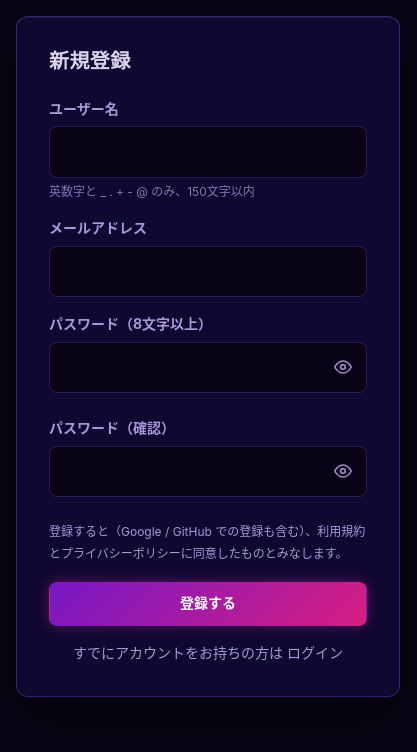
it: RegisterPage › 登録失敗時にエラーメッセージを表示
In the field labelled "ユーザー名": (208, 152) [49,126,367,178], type "dup"
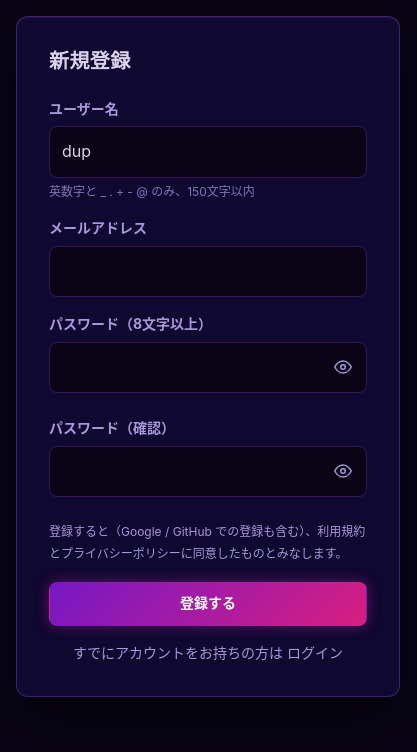
In the field labelled "メールアドレス": (208, 271) [49,246,367,297], type "dup@x.com"
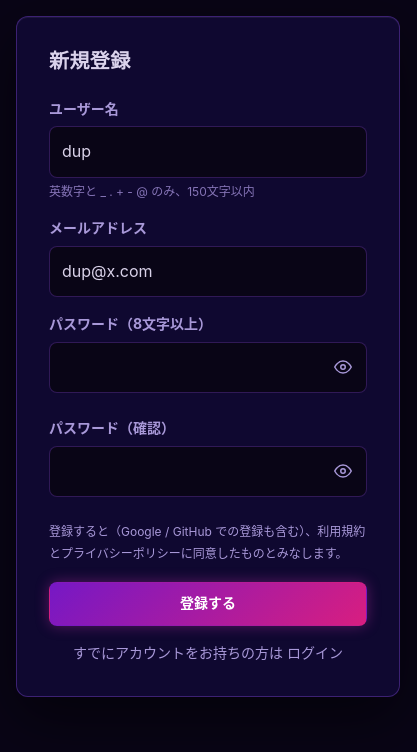
In the password field labelled "パスワード（8文字以上）": (208, 367) [49,342,367,393], type "password123"
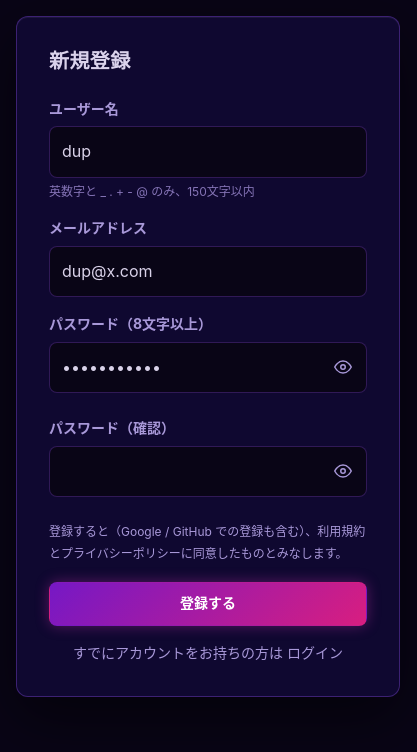
In the password field labelled "パスワード（確認）": (208, 471) [49,446,367,497], type "password123"
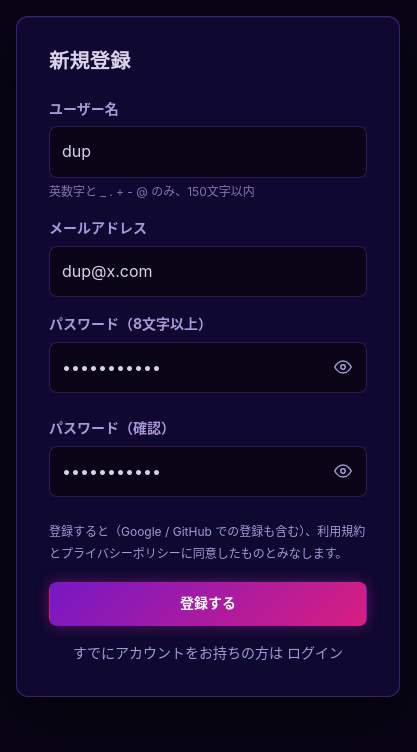
Click the button "登録する": (208, 604) [49,582,367,626]
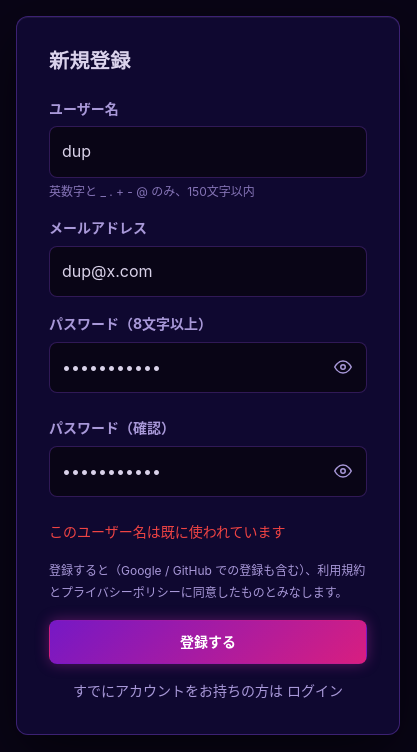
Expected: the text "このユーザー名は既に使われています" is shown, [49,523,286,540]
